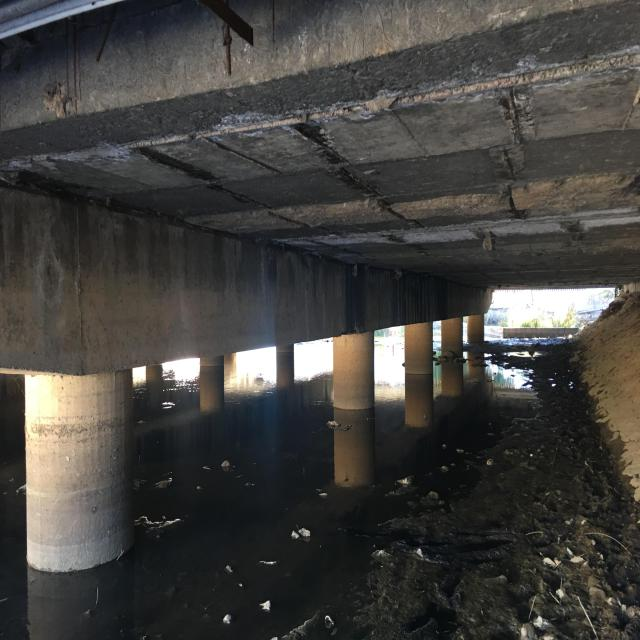concrete spalling: (136, 144, 257, 210), (294, 122, 378, 207), (497, 86, 532, 222), (40, 82, 69, 118), (557, 217, 586, 242), (614, 174, 640, 198), (382, 231, 409, 246)
